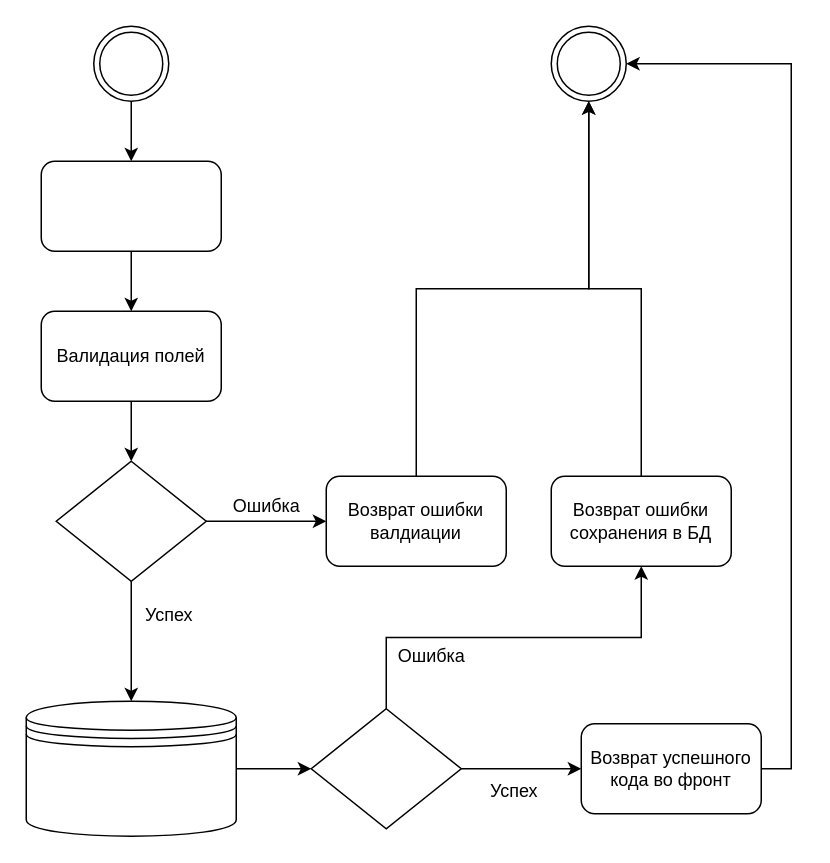
The diagram is 830 pixels wide and 863 high, and some of its shapes have lost their labels. Here are the shapes that lost their labels. From the top down, the box of each, then its label:
(40, 160, 221, 251): Запрос на установку стоимости услуг
(25, 700, 236, 836): Установка новой стоимости услуг
